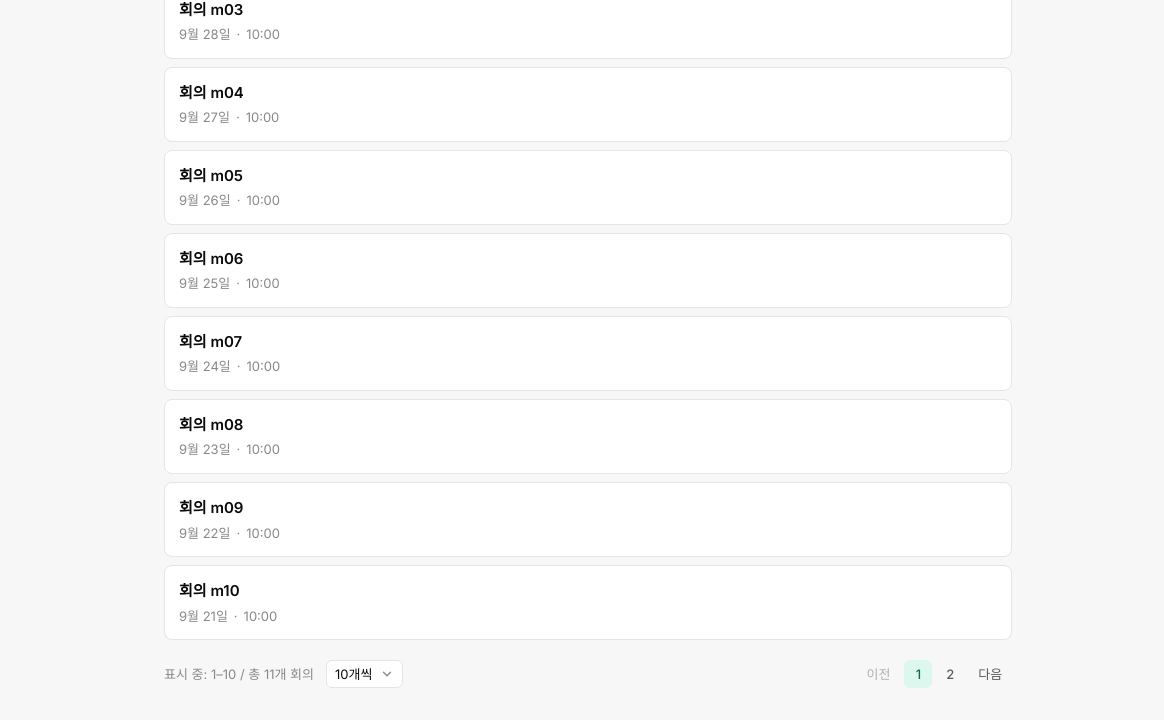
한 페이지는 기본 10개 — 11번째 회의는 2페이지에 있고, 범위 밖 페이지는 마지막으로 본다
(page scrolled)
Expected: the text "표시 중: 1–10 / 총 11개 회의" is shown, [164,665,314,683]
What coordinates should you click on to do the following:
click the button "다음"
I would click on:
 (990, 674)
Its box is [968,660,1012,688].
(page scrolled)
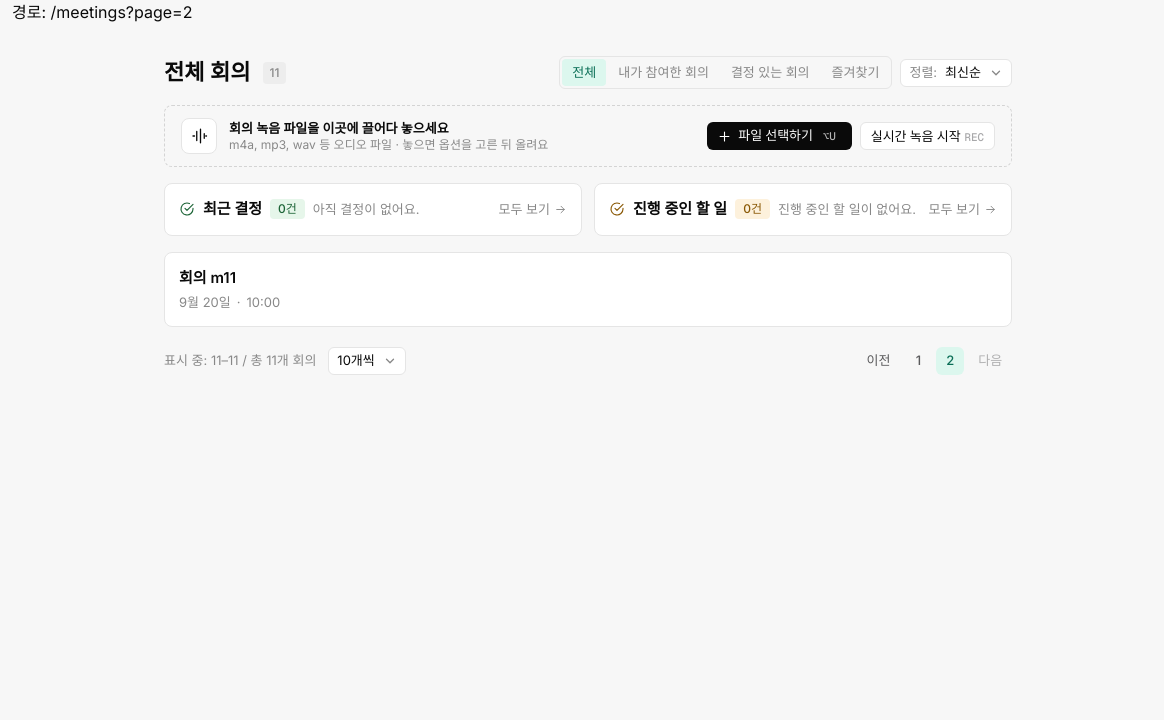
Expected: the text "경로: /meetings?page=2" is shown, [12,2,192,22]
Expected: the text "표시 중: 11–11 / 총 11개 회의" is shown, [164,351,316,370]
